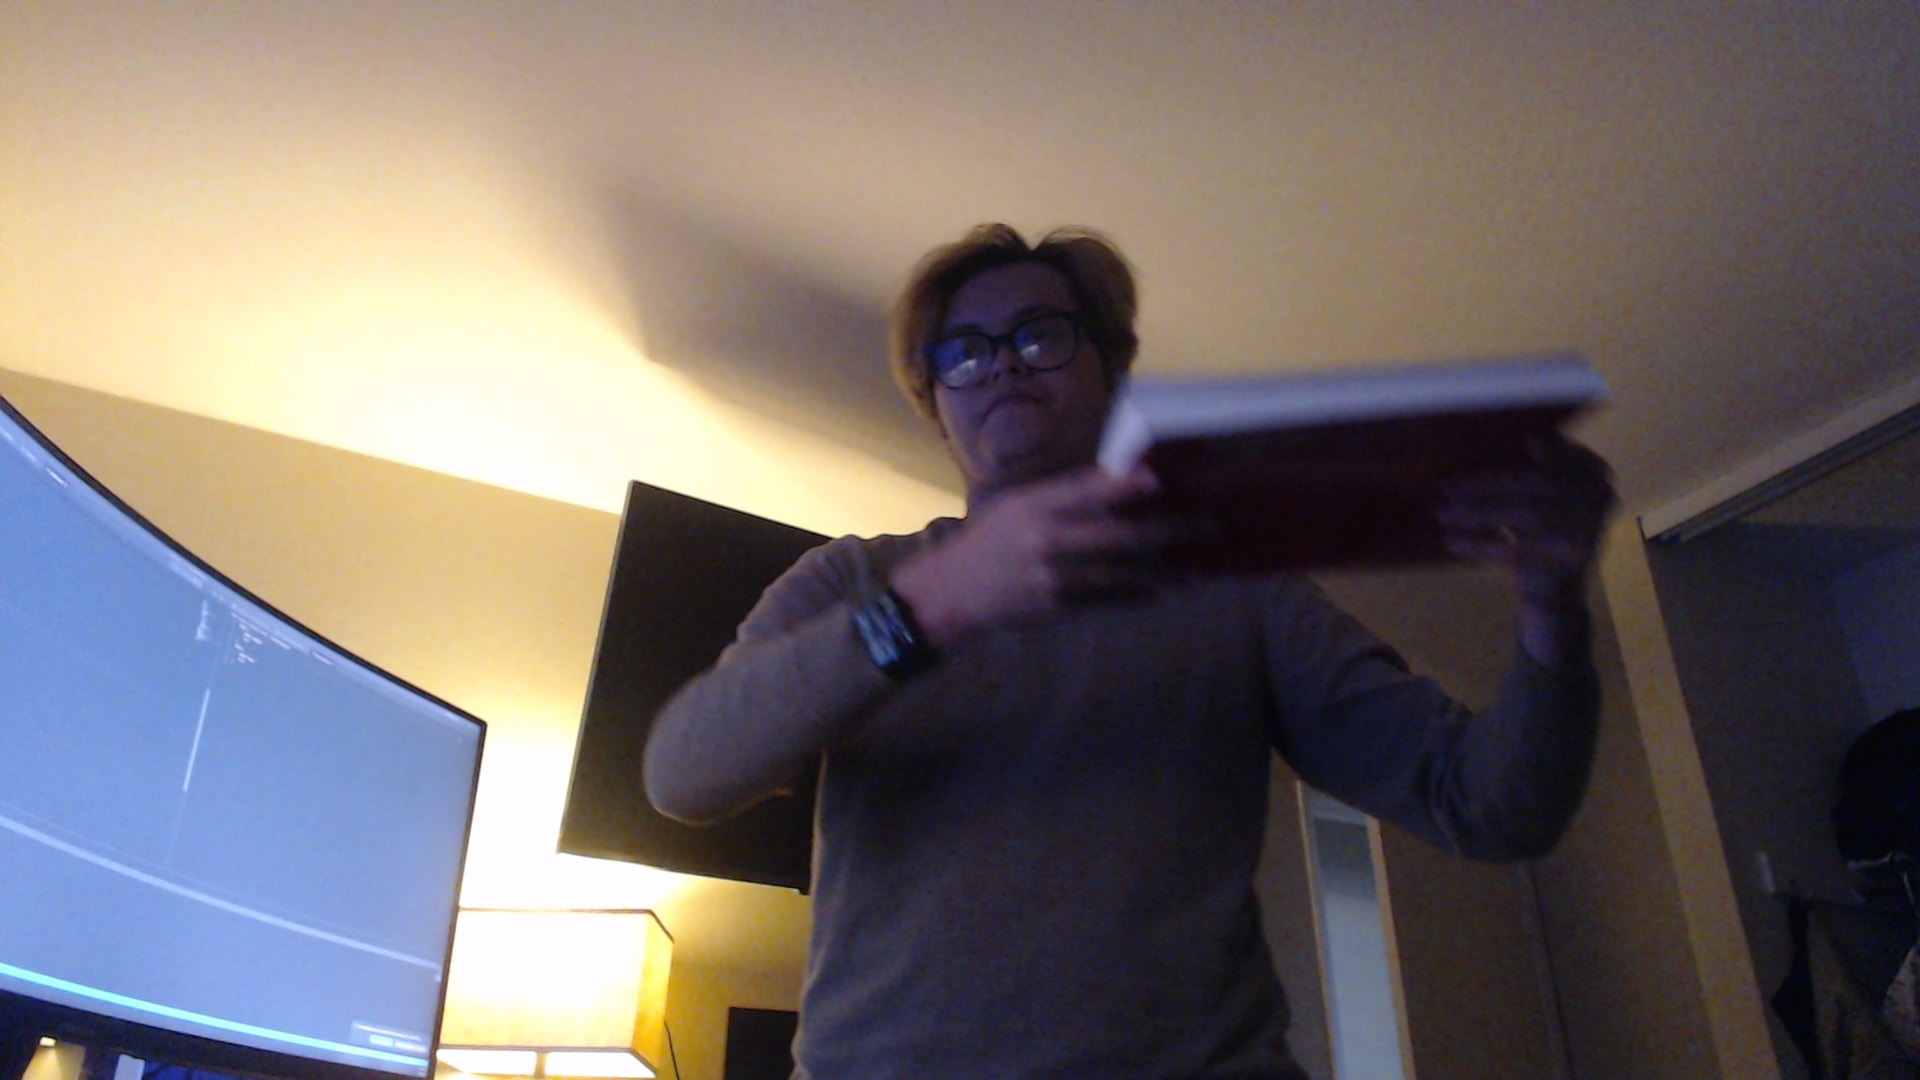book: (1083, 356, 1601, 576)
